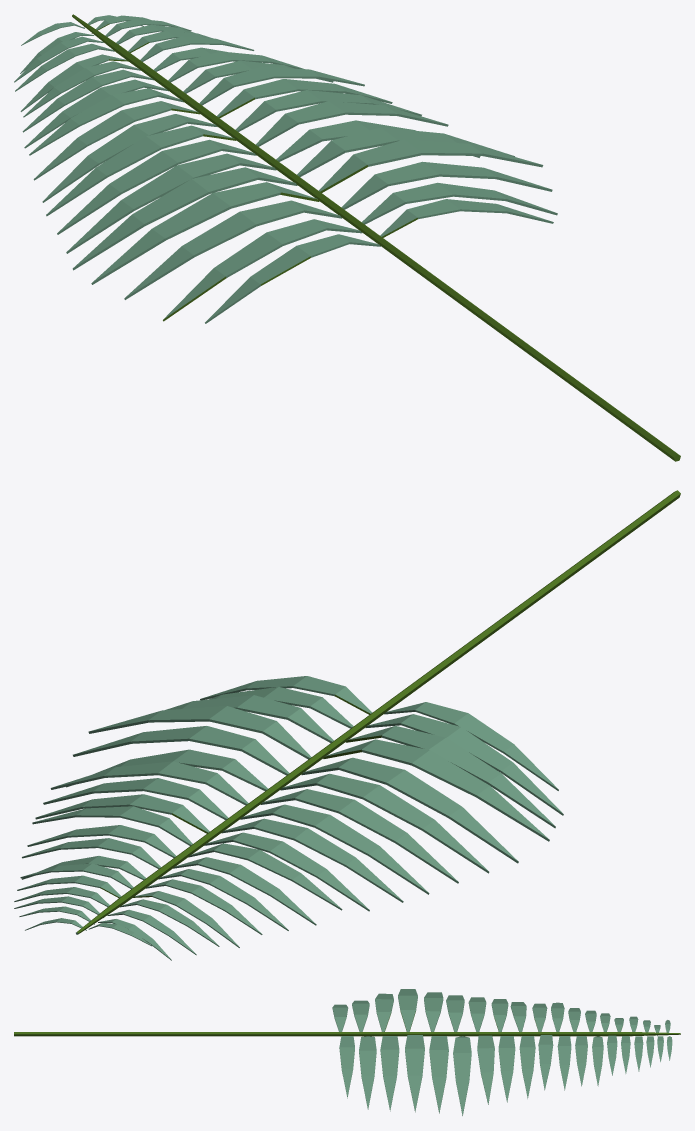
File: Hoja Selva.fbx
The picture shows the model from 3 angles, top to bottom: view 1: azimuth 30°, elevation 25°; view 2: azimuth 150°, elevation 25°; view 3: azimuth 270°, elevation 25°; orthographic projection. The views are drawn at different scales.
Parts seen in each view (by area): view 1: Hoja Selva; view 2: Hoja Selva; view 3: Hoja Selva.
Boxes of the visible parts, bbox=[...] form: Hoja Selva: bbox=[14, 14, 680, 461]; Hoja Selva: bbox=[14, 490, 680, 960]; Hoja Selva: bbox=[14, 989, 680, 1115].
Bounding box in the file's own units: 630 × 92.56 × 1439.
